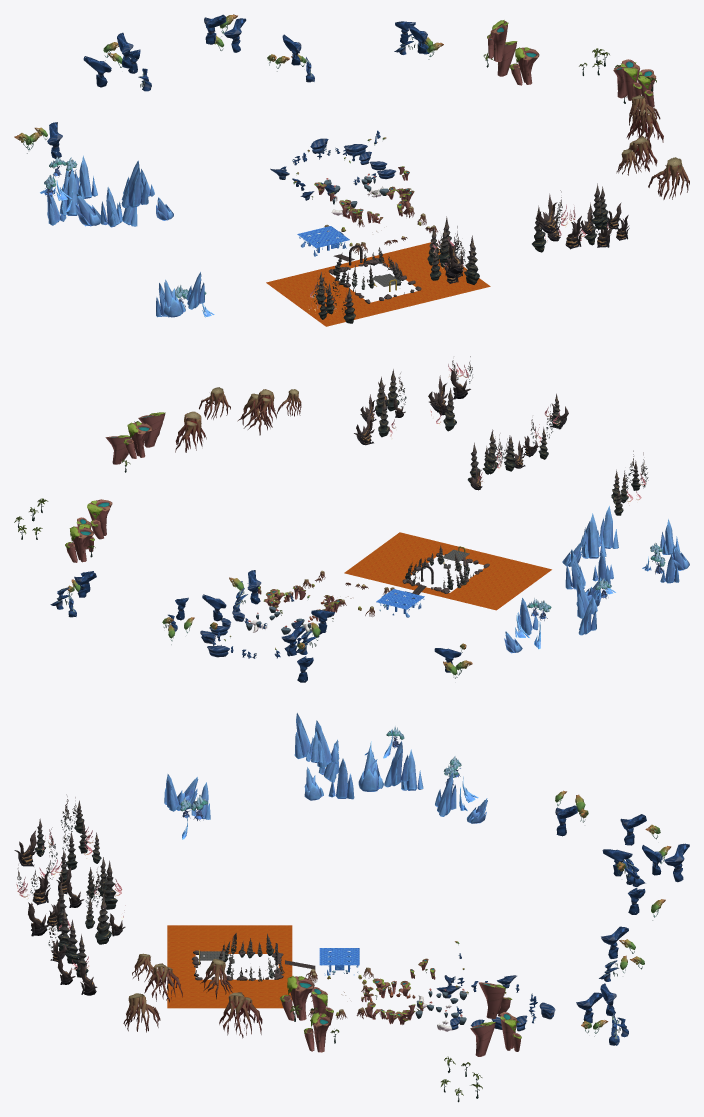
Rendered from emberhold_decor_lite3.glb.
3 renders of one model, top to bottom at view 1: azimuth 30°, elevation 25°; view 2: azimuth 150°, elevation 25°; view 3: azimuth 270°, elevation 25°, orthographic. The views are drawn at different scales.
Parts seen in each view (by area): view 1: visual_caldera, bog_peak_2_bog-mangrove, sand_peak_6_sand-cone-c, visual_hall, sand_peak_7_sand-cone-c, bog_peak_0_bog-mangrove-b, sand_peak_3_sand-cone-c, ice_peak_10_ice-slab-b, ice_peak_12_ice-slab-b, bog_peak_3_bog-mangrove-b, ice_peak_11_ice-slab-b, bog_peak_1_bog-mangrove (+3 smaller); view 2: visual_caldera, bog_peak_0_bog-mangrove-b, sand_peak_8_sand-cone-c, sand_peak_2_sand-cone-c, sand_peak_7_sand-cone-c, ice_peak_9_ice-slab-b, visual_hall, bog_peak_3_bog-mangrove-b, ice_peak_10_ice-slab-b, sand_peak_3_sand-cone-c, bog_peak_1_bog-mangrove; view 3: visual_caldera, sand_peak_3_sand-cone-c, bog_peak_0_bog-mangrove-b, visual_hall, sand_peak_7_sand-cone-c, bog_peak_2_bog-mangrove, sand_peak_1_sand-cone-c, bog_peak_3_bog-mangrove-b, ice_peak_15_ice-slab-a, ice_peak_12_ice-slab-b, ice_peak_6_ice-slab-b, sand_peak_8_sand-cone-c.
Part boxes in pixels (x1,y1,x2,y2): visual_caldera: [266, 242, 490, 326]; bog_peak_2_bog-mangrove: [648, 157, 689, 199]; sand_peak_6_sand-cone-c: [509, 47, 539, 85]; visual_hall: [297, 226, 349, 252]; sand_peak_7_sand-cone-c: [487, 20, 508, 61]; bog_peak_0_bog-mangrove-b: [626, 108, 663, 148]; sand_peak_3_sand-cone-c: [620, 59, 641, 100]; ice_peak_10_ice-slab-b: [122, 166, 148, 207]; ice_peak_12_ice-slab-b: [59, 168, 83, 215]; bog_peak_3_bog-mangrove-b: [623, 136, 657, 171]; ice_peak_11_ice-slab-b: [100, 187, 122, 227]; bog_peak_1_bog-mangrove: [629, 95, 660, 127]; visual_caldera: [344, 532, 551, 610]; bog_peak_0_bog-mangrove-b: [175, 411, 206, 452]; sand_peak_8_sand-cone-c: [65, 526, 93, 562]; sand_peak_2_sand-cone-c: [123, 422, 152, 458]; sand_peak_7_sand-cone-c: [87, 499, 112, 539]; ice_peak_9_ice-slab-b: [581, 513, 606, 558]; visual_hall: [376, 589, 424, 613]; bog_peak_3_bog-mangrove-b: [250, 389, 276, 425]; ice_peak_10_ice-slab-b: [597, 506, 618, 548]; sand_peak_3_sand-cone-c: [138, 412, 165, 447]; bog_peak_1_bog-mangrove: [199, 387, 230, 419]; visual_caldera: [167, 925, 292, 1008]; sand_peak_3_sand-cone-c: [279, 976, 314, 1020]; bog_peak_0_bog-mangrove-b: [219, 992, 262, 1038]; visual_hall: [319, 948, 359, 972]; sand_peak_7_sand-cone-c: [478, 982, 512, 1018]; bog_peak_2_bog-mangrove: [123, 993, 160, 1032]; sand_peak_1_sand-cone-c: [304, 1012, 330, 1052]; bog_peak_3_bog-mangrove-b: [144, 963, 182, 1002]; ice_peak_15_ice-slab-a: [358, 746, 383, 791]; ice_peak_12_ice-slab-b: [384, 741, 409, 787]; ice_peak_6_ice-slab-b: [328, 758, 354, 799]; sand_peak_8_sand-cone-c: [500, 1012, 521, 1051].
Bounding box in the file's own units: 1925 × 475 × 1786.
Materials: 57 (57 with a texture image).
